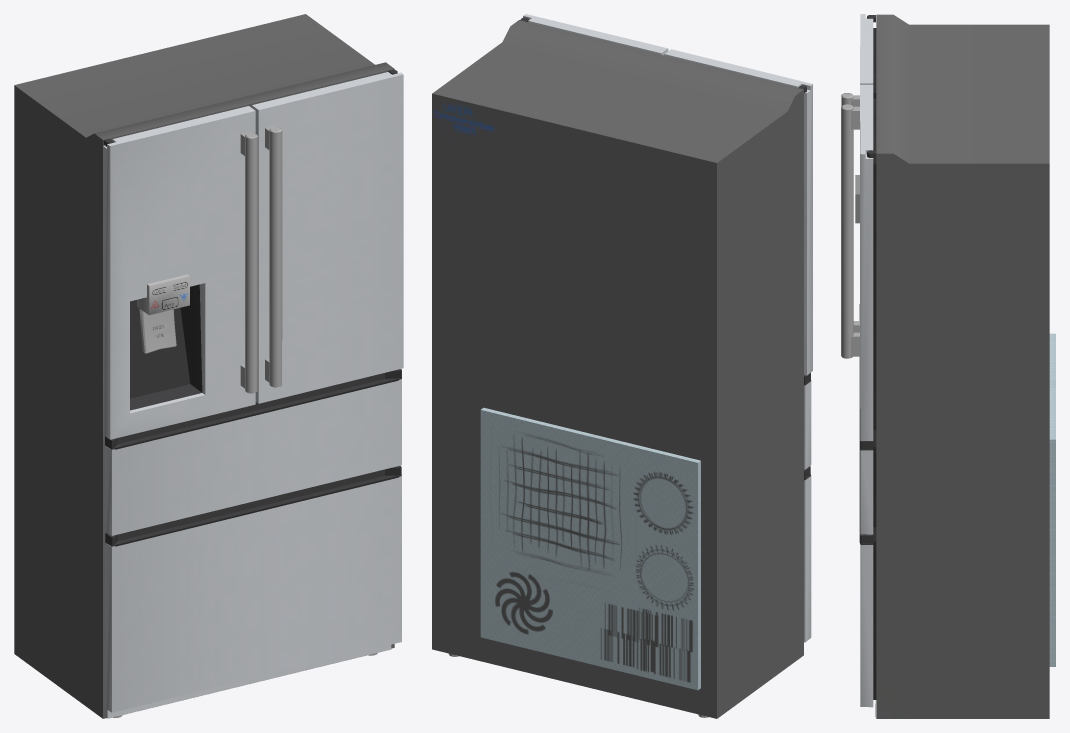
The model's file is sf_ebe62ed6dd9b.glb.
The picture shows the model from 3 angles, left to right: view 1: azimuth 30°, elevation 25°; view 2: azimuth 150°, elevation 25°; view 3: azimuth 270°, elevation 25°; orthographic projection. The views are drawn at different scales.
Parts seen in each view (by area): view 1: pCube17_Fridge_Stainless_0, pCube17_Fridge_Body_0, pCube17_Fridge_Plastic_0, pCube17_Fridge_Brushed_0; view 2: pCube17_Fridge_Body_0, pCube17_Fridge_Radiator_0, pCube17_Fridge_Stainless_0; view 3: pCube17_Fridge_Body_0, pCube17_Fridge_Stainless_0, pCube17_Fridge_Brushed_0, pCube17_Fridge_Gasket_0, pCube17_Fridge_Radiator_0, pCube17_Fridge_Plastic_0.
Part boxes in pixels (<box>): pCube17_Fridge_Stainless_0: <box>103,72,403,718</box>; pCube17_Fridge_Body_0: <box>14,14,394,718</box>; pCube17_Fridge_Plastic_0: <box>103,69,401,546</box>; pCube17_Fridge_Brushed_0: <box>113,126,377,717</box>; pCube17_Fridge_Body_0: <box>432,20,803,718</box>; pCube17_Fridge_Radiator_0: <box>480,407,700,690</box>; pCube17_Fridge_Stainless_0: <box>523,14,812,642</box>; pCube17_Fridge_Body_0: <box>876,14,1049,718</box>; pCube17_Fridge_Stainless_0: <box>860,14,875,717</box>; pCube17_Fridge_Brushed_0: <box>841,93,859,358</box>; pCube17_Fridge_Gasket_0: <box>873,28,876,699</box>; pCube17_Fridge_Radiator_0: <box>1049,333,1055,666</box>; pCube17_Fridge_Plastic_0: <box>859,15,875,544</box>.
Bounding box in the file's own units: 0.9596 × 1.82 × 0.6206.
6 materials, 5 textured.
